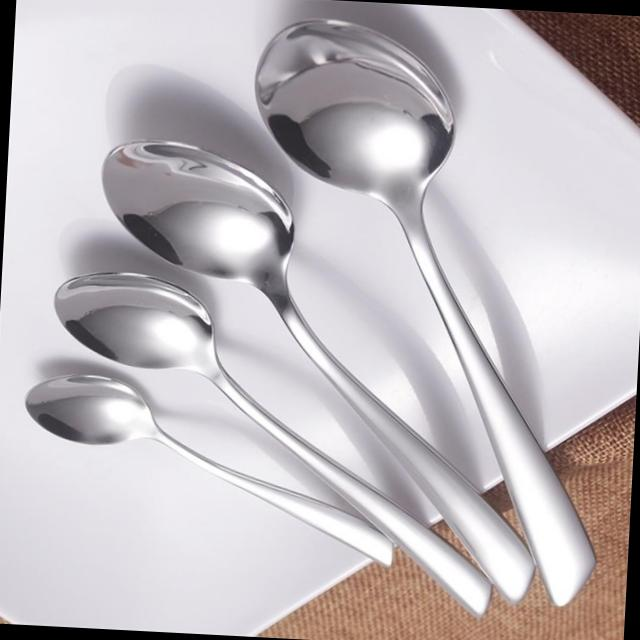spoon: (16, 364, 420, 569)
